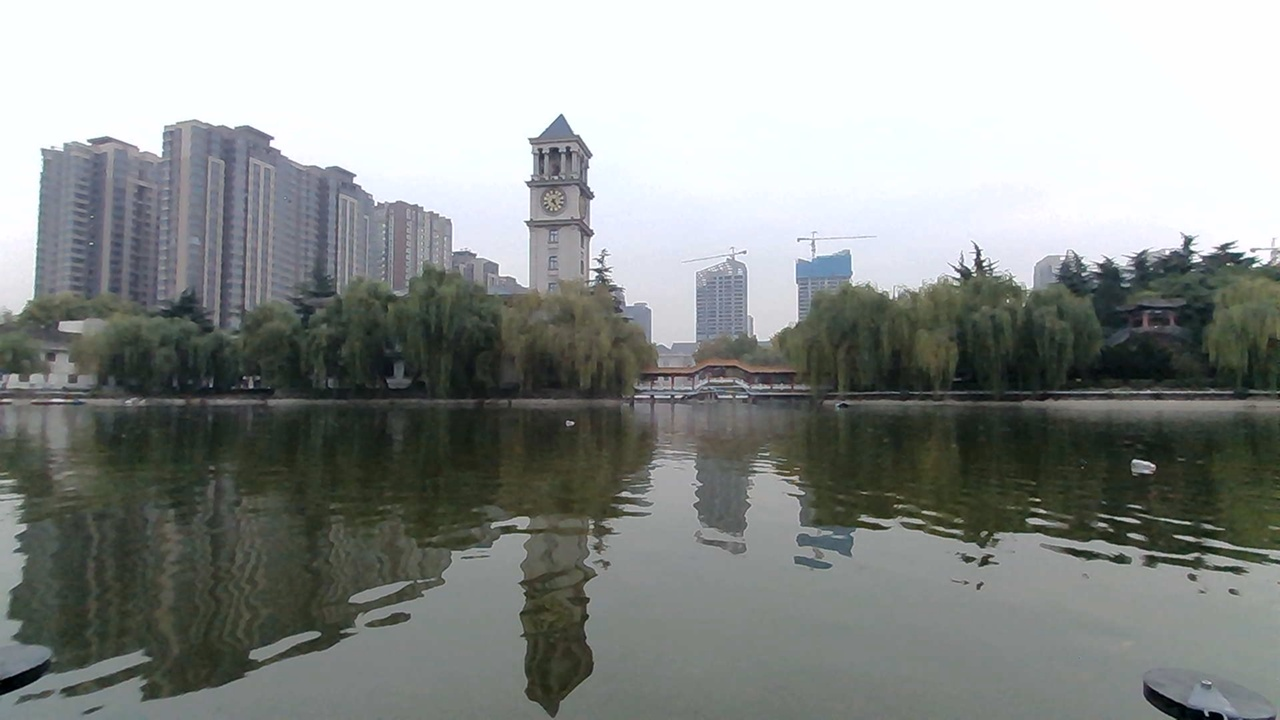bottle: (1129, 453, 1161, 474), (555, 411, 586, 432)
